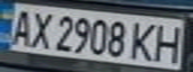0: (87, 16, 112, 56)
2: (51, 11, 75, 53)
8: (106, 18, 130, 58)
9: (69, 13, 93, 55)
A: (6, 7, 39, 47)
H: (148, 21, 187, 64)
K: (127, 19, 160, 62)
X: (24, 8, 54, 50)
